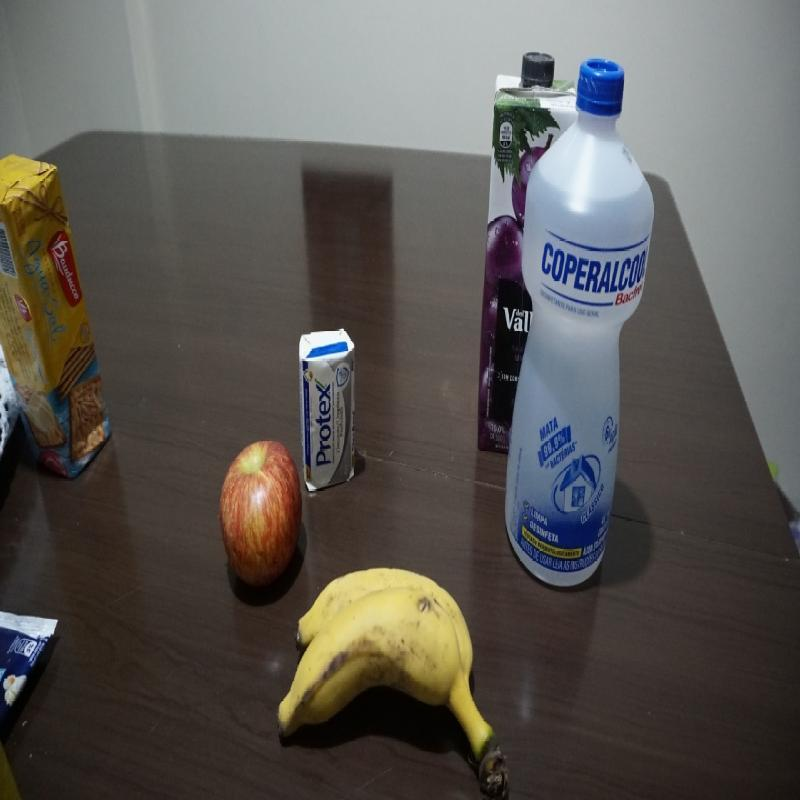Alcohol Bottle: (501, 57, 656, 592)
Apple: (217, 438, 306, 596)
Banana: (276, 564, 511, 793)
Cracker: (0, 143, 114, 482)
Popcorn: (0, 579, 59, 732)
Soap: (296, 327, 360, 489)
